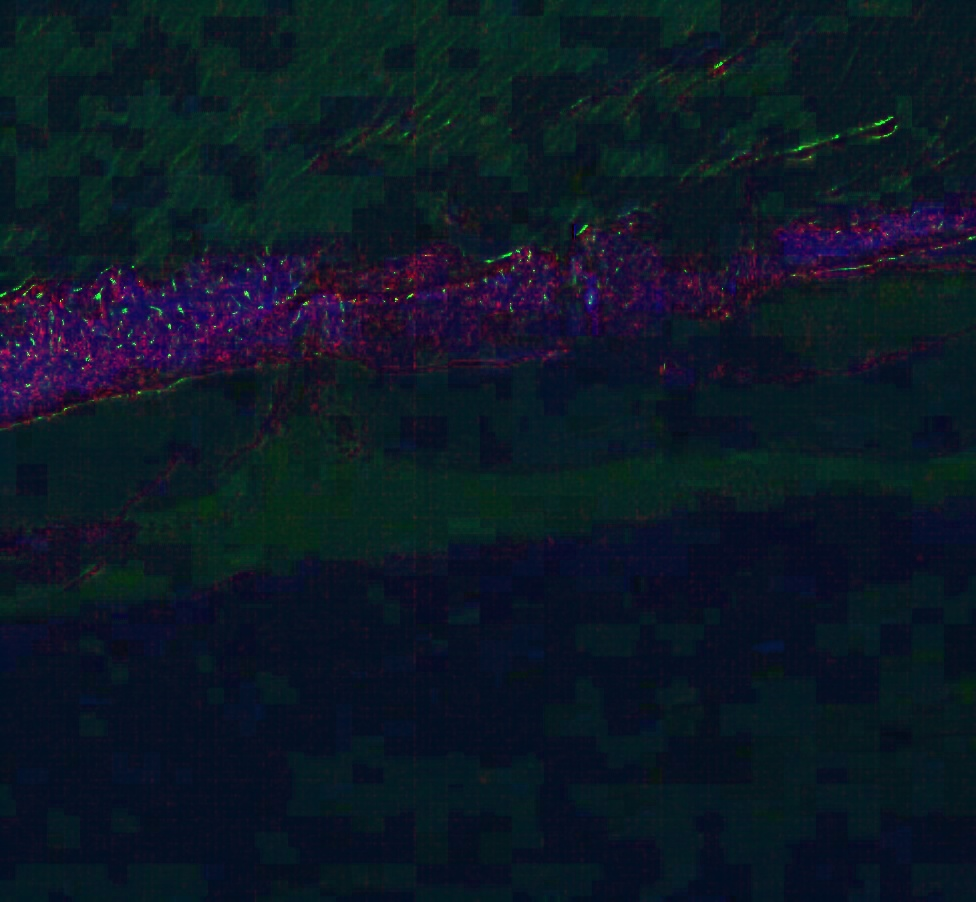rip_current: (230, 143, 365, 470)
